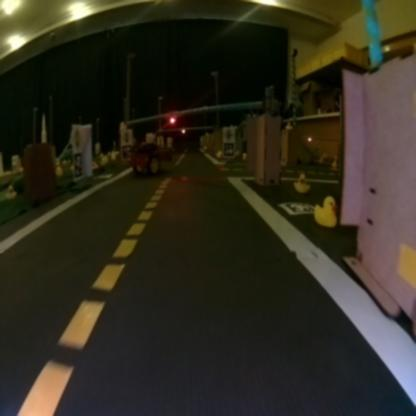duckie: (308, 191, 342, 232), (292, 166, 312, 201)
duckiebot: (126, 124, 179, 188)
